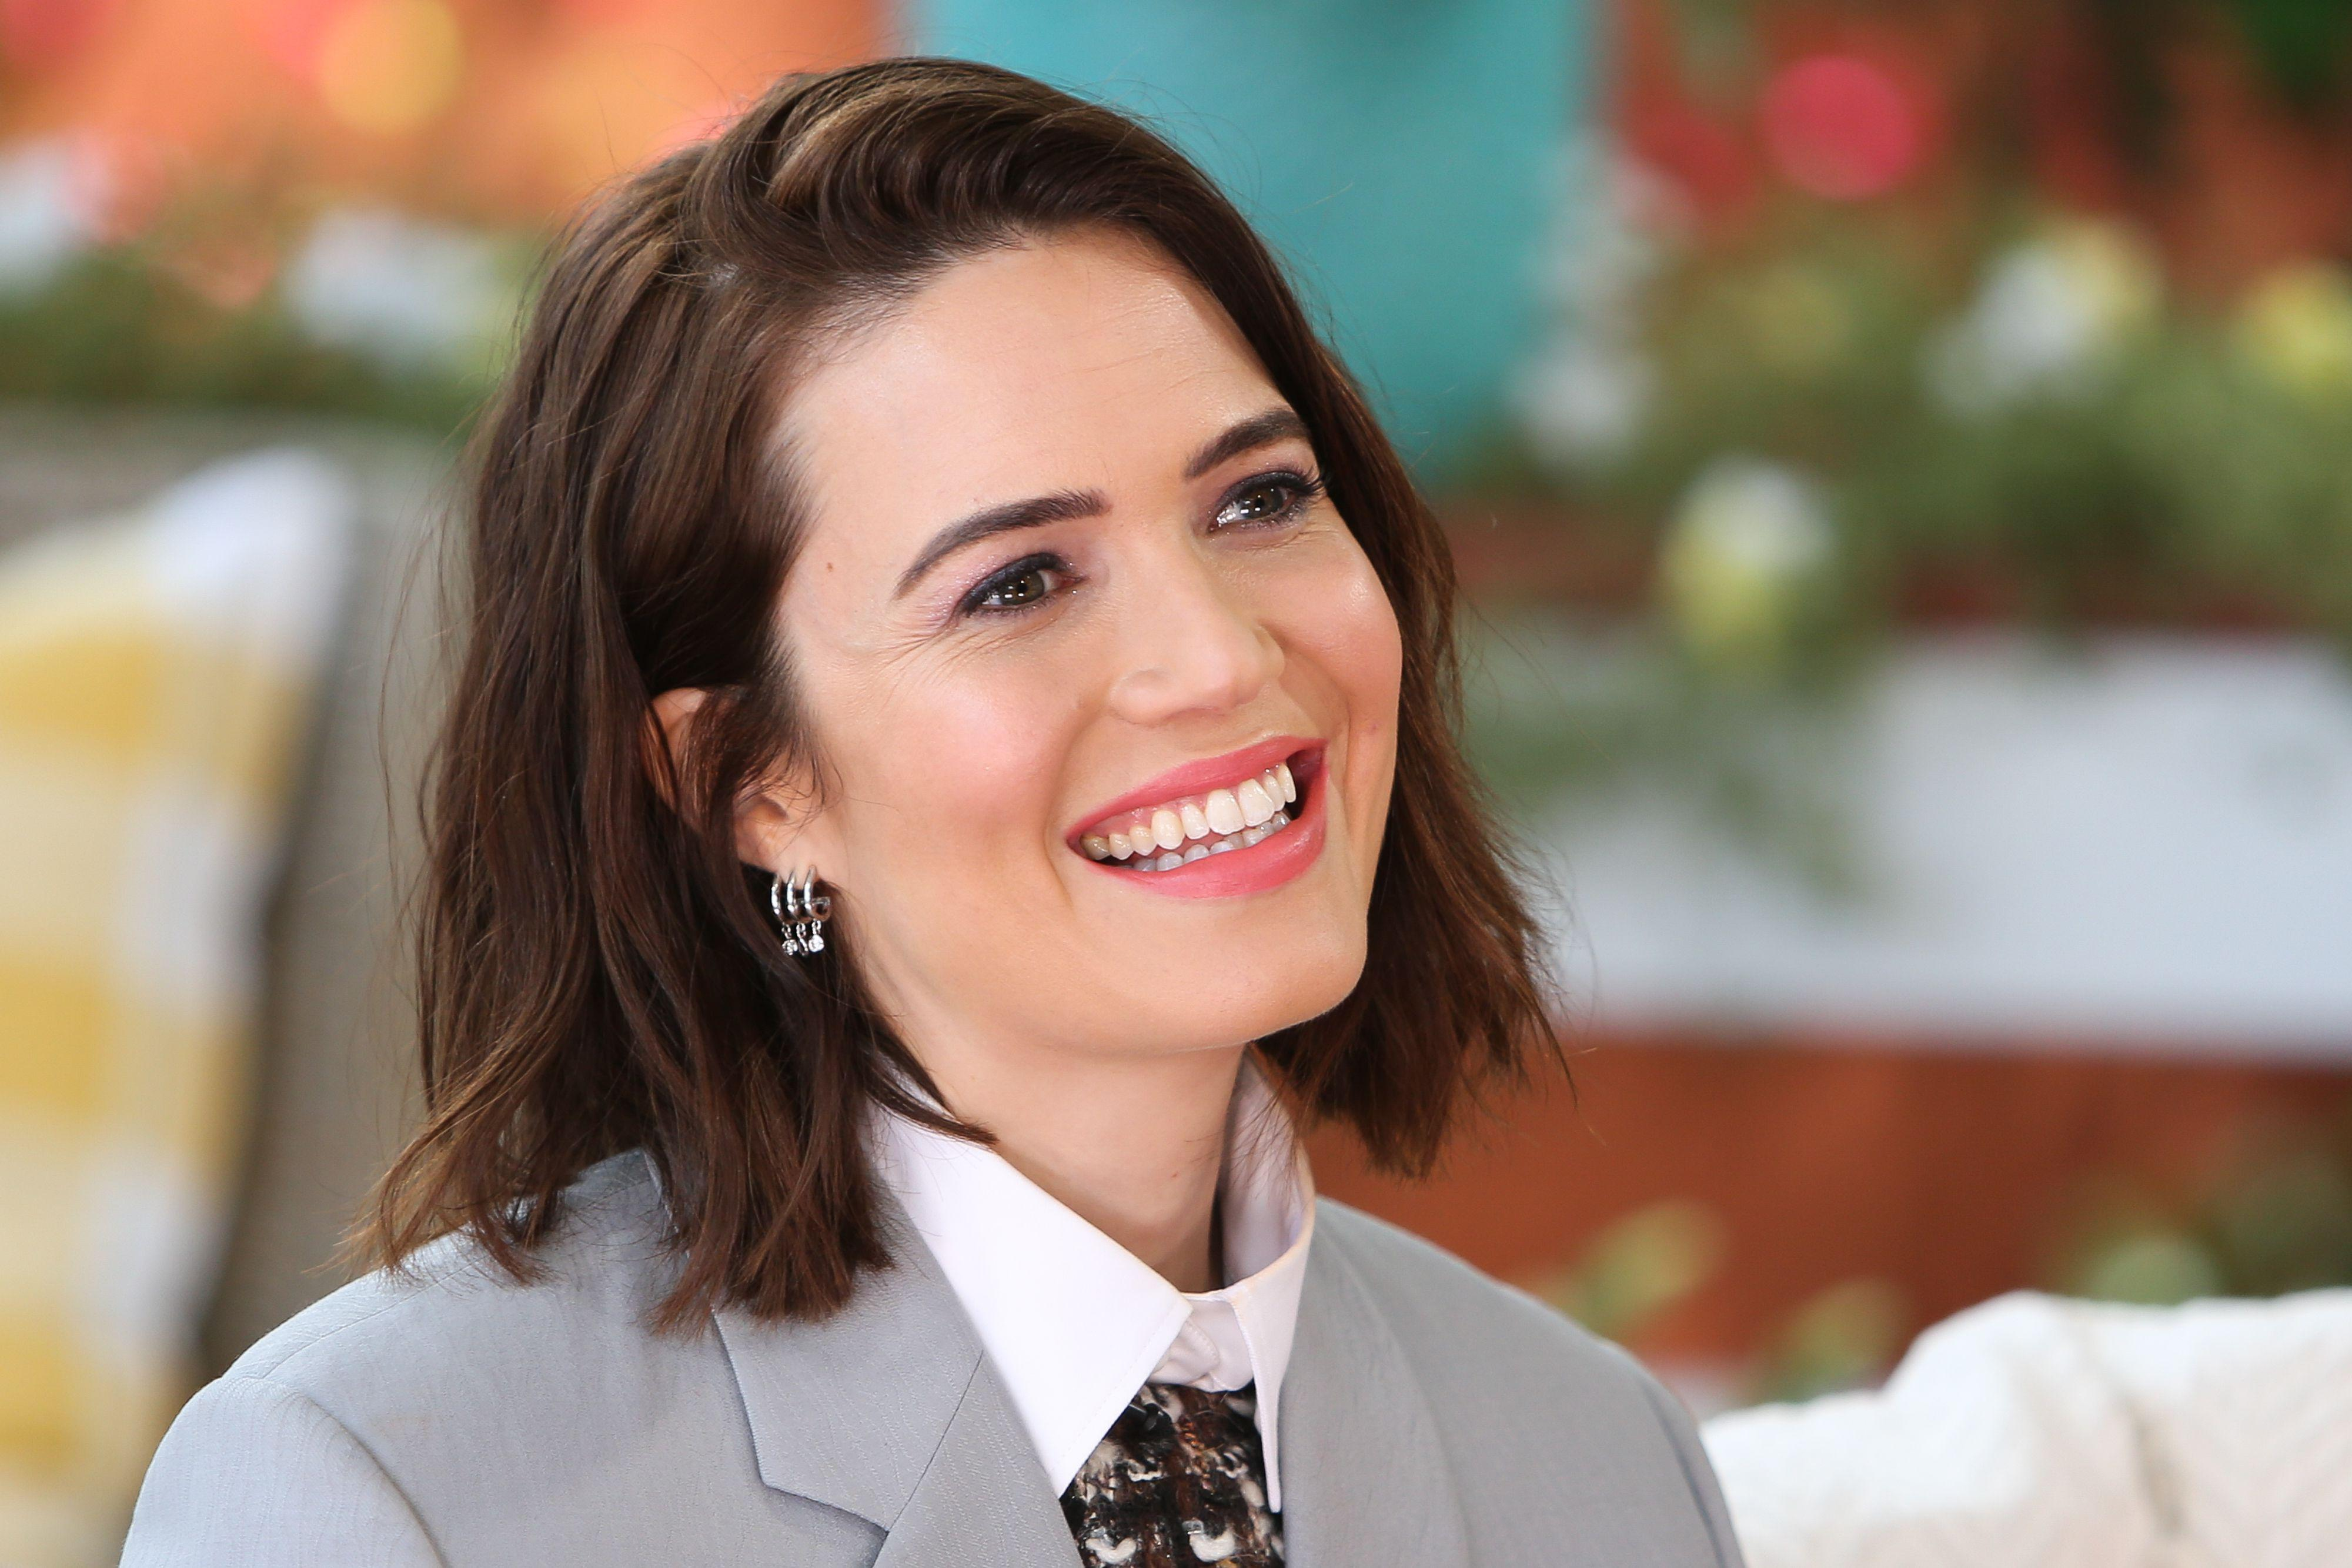face: (784, 246, 1406, 1055)
